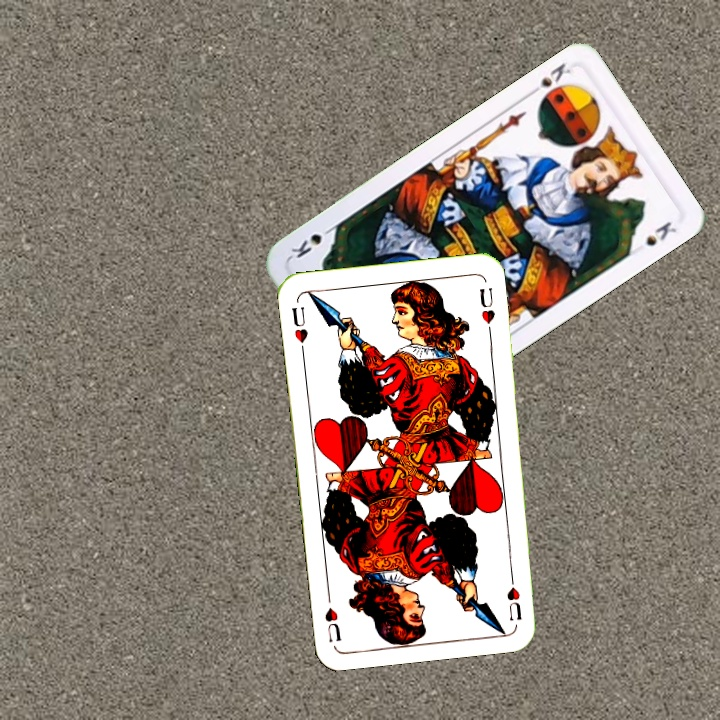HU: (287, 302, 310, 356), (503, 566, 524, 624)
SK: (525, 58, 573, 99)
